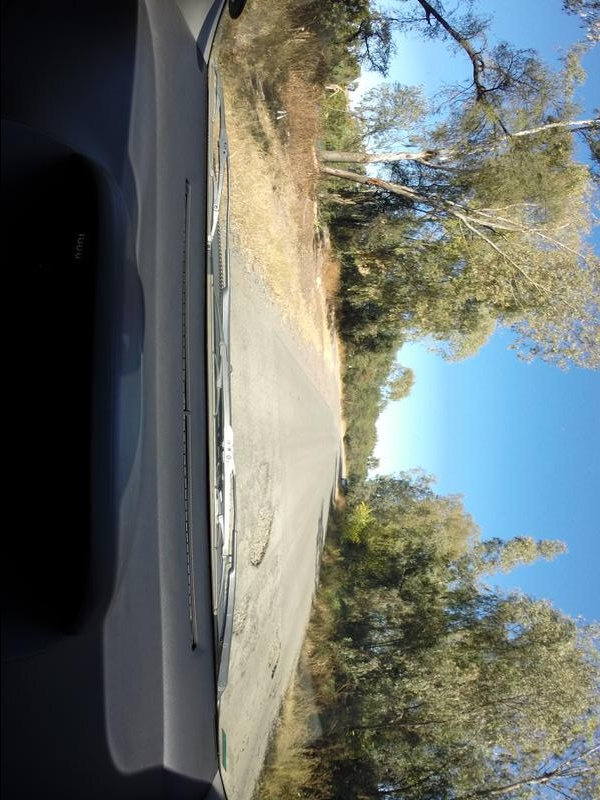pothole: (252, 504, 280, 568), (258, 641, 284, 689), (233, 599, 256, 635), (254, 460, 274, 497)
